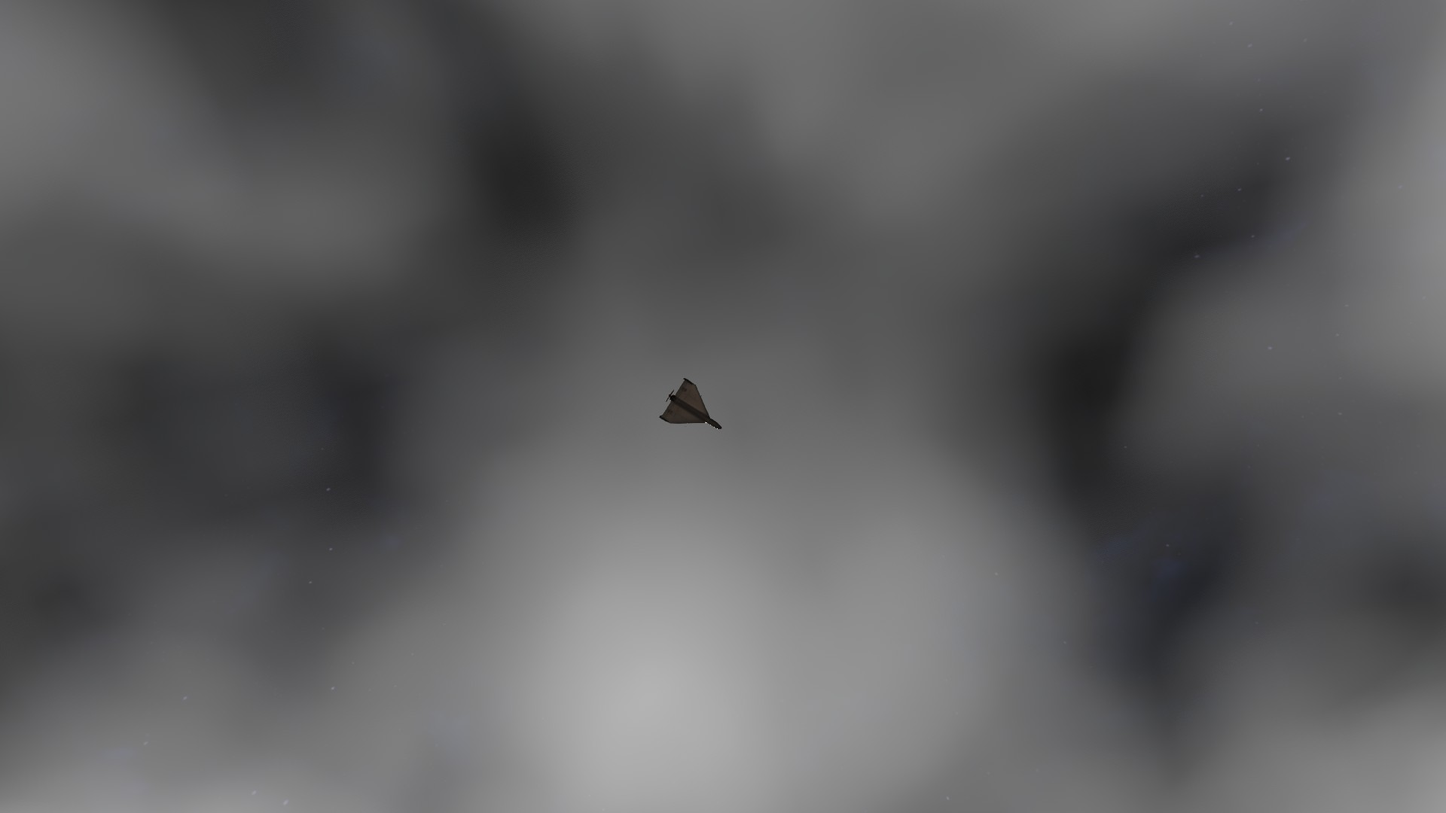shahed: (659, 378, 722, 429)
